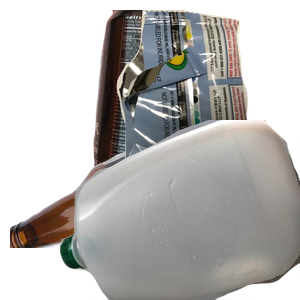glass: (10, 120, 247, 300)
metal: (91, 10, 258, 188)
plastic: (60, 120, 300, 300)
trash: (114, 10, 300, 180)
